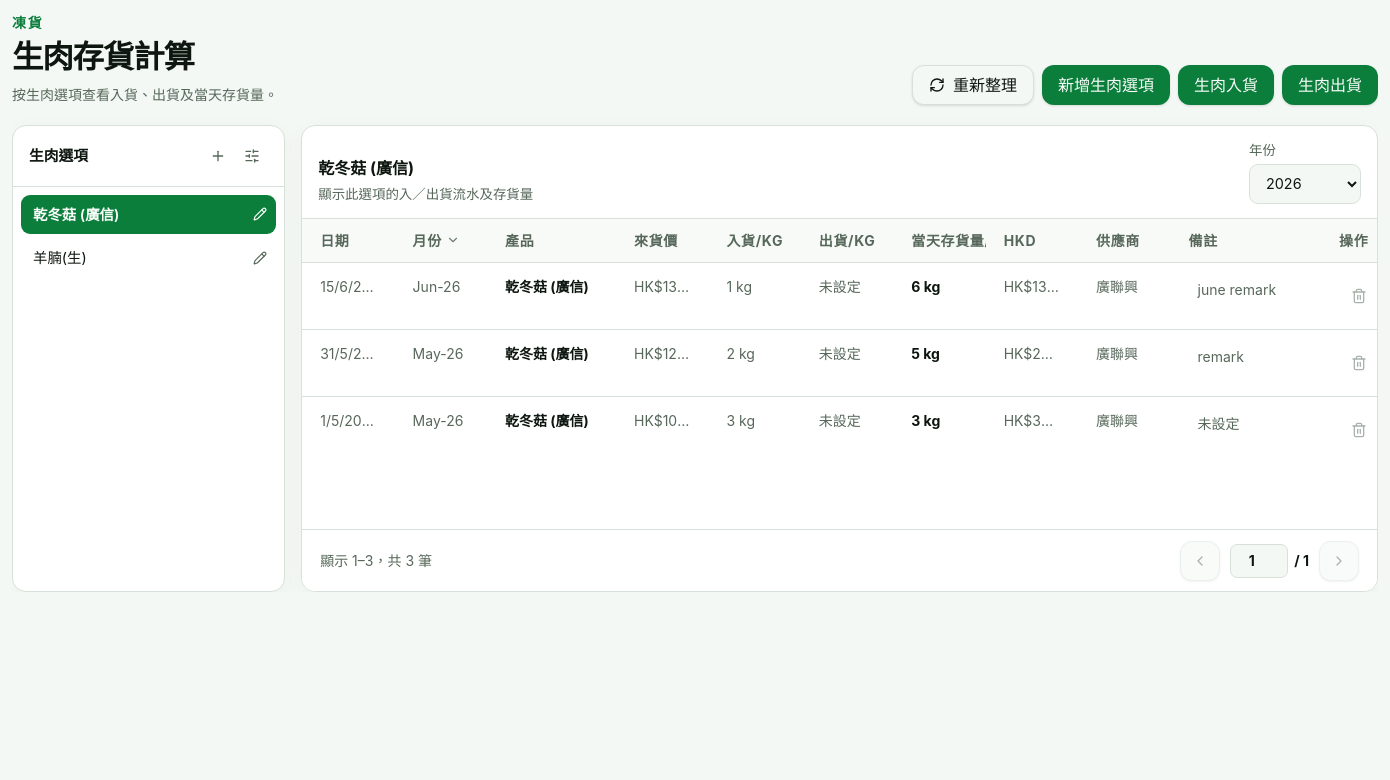
Test: Raw meat inventory calculation page › lets users click a remark, edit it, and save
Click the button with aria-label "編輯備註".
click(1246, 290)  # box left=1188, top=276, right=1303, bottom=305
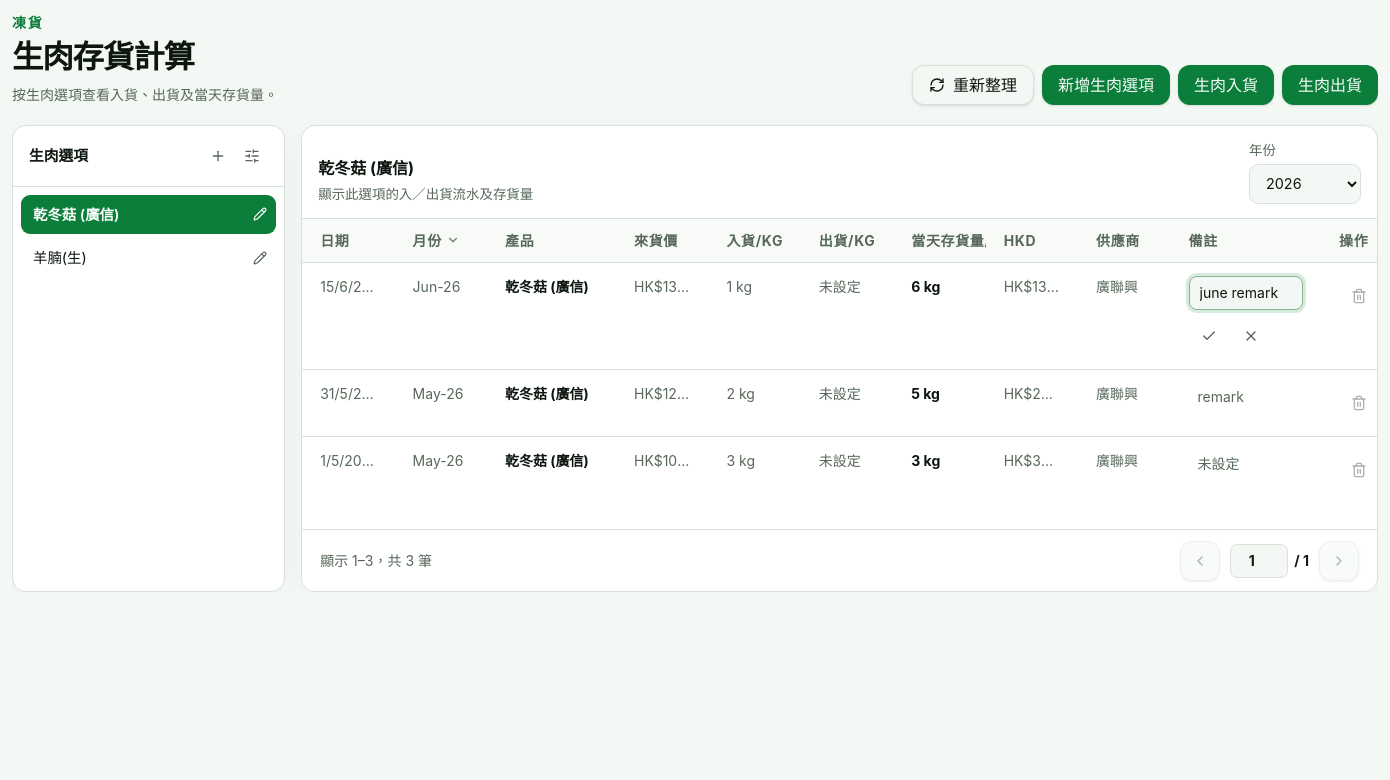
Replace the text in the field named "編輯備註" with "更新備註" at {"x": 1246, "y": 293}, box left=1188, top=276, right=1303, bottom=310
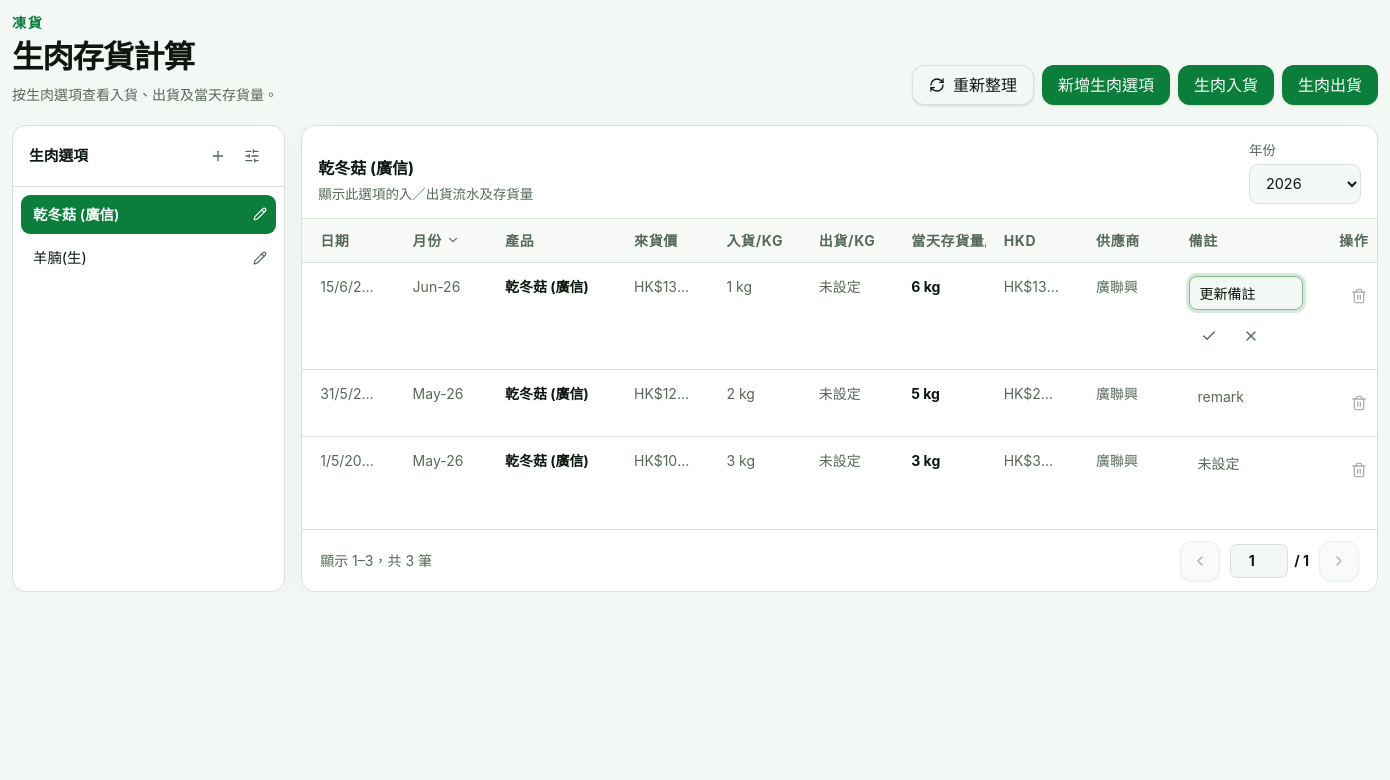
Click the button named "保存".
click(1208, 336)  # box left=1188, top=316, right=1228, bottom=356
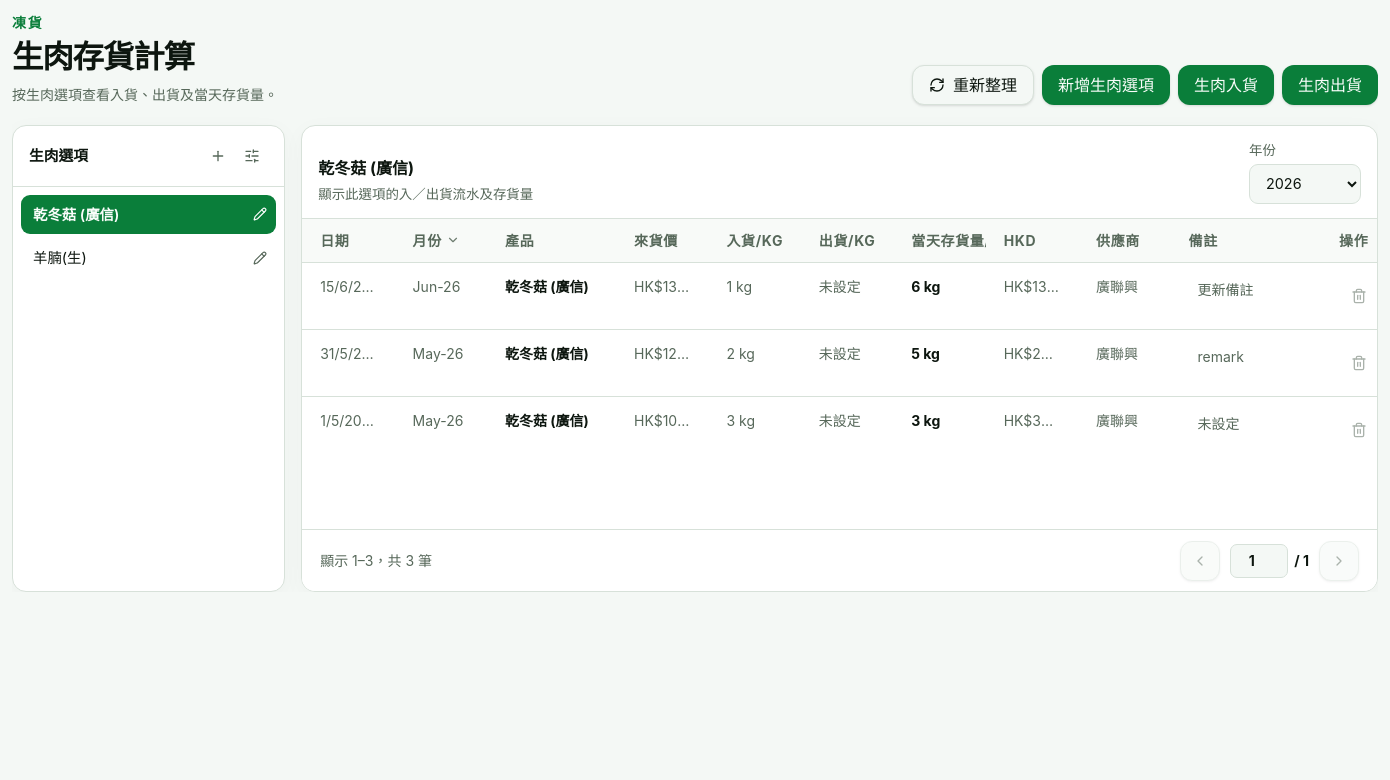
Expected: the button with aria-label "編輯備註" reads "更新備註", left=1188, top=276, right=1303, bottom=305
